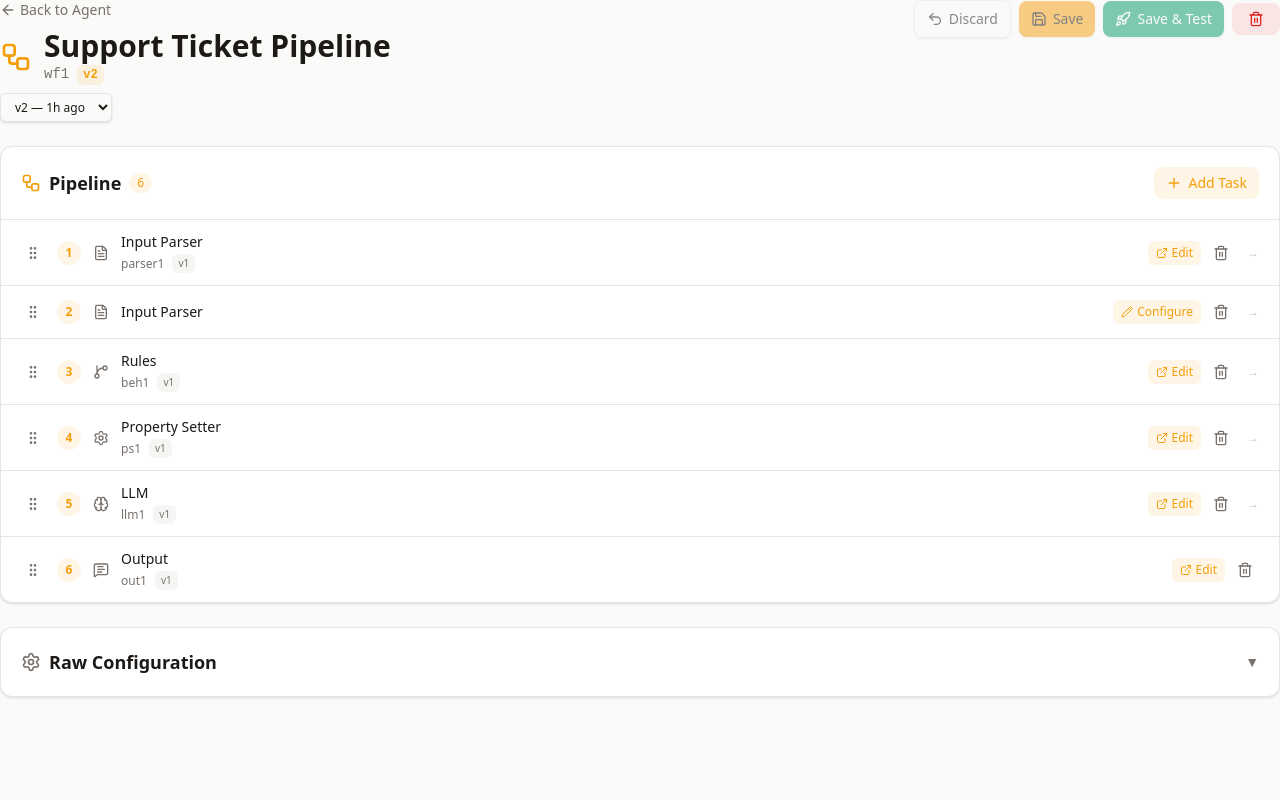
Test: Workflow Detail — Parser Inline Editing › applies parser changes and marks workflow dirty
Click the button with test id "configure-inline-1" at (1157,312), box left=1113, top=300, right=1201, bottom=324
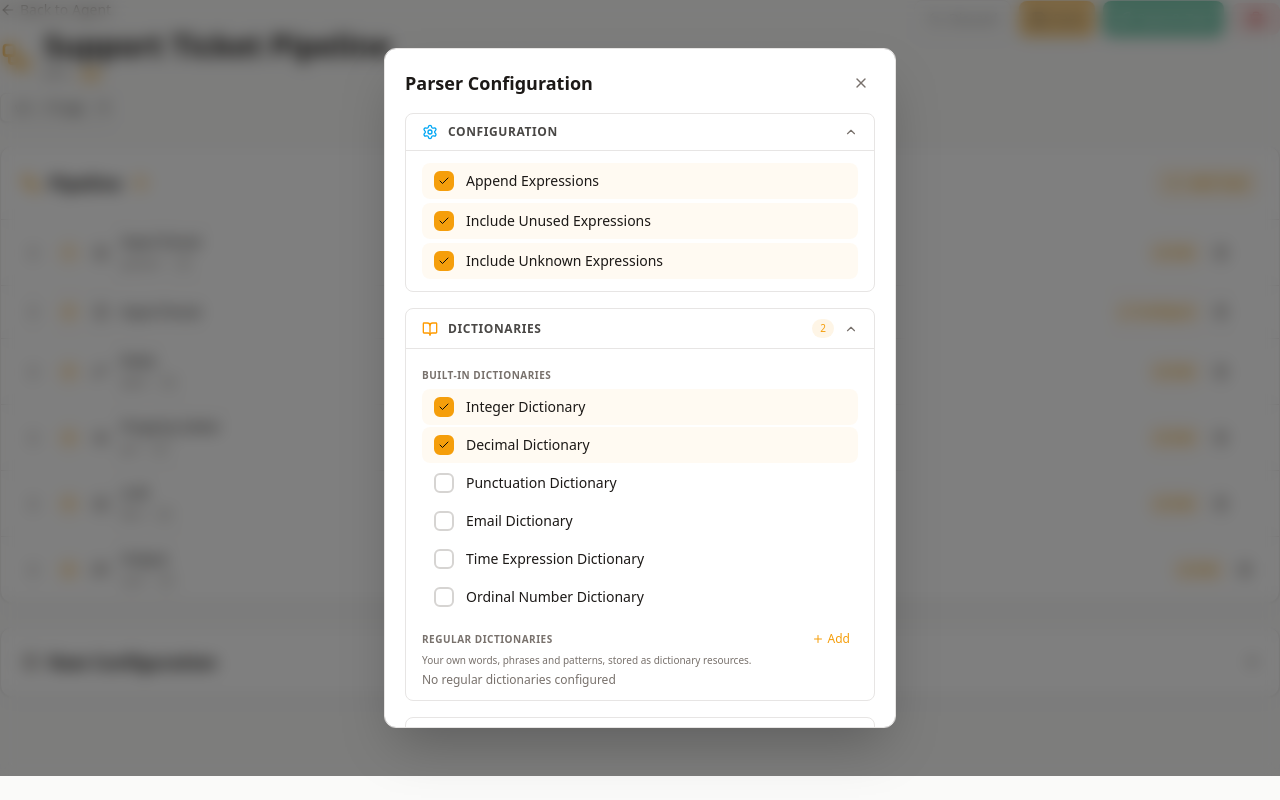
Check: the element with test id "parser-editor" is shown, box left=405, top=113, right=875, bottom=728
Make a change (toggle appendExpressions)
Click the checkbox labelled "Append Expressions" at (533,180), box left=422, top=163, right=858, bottom=199
(page scrolled)
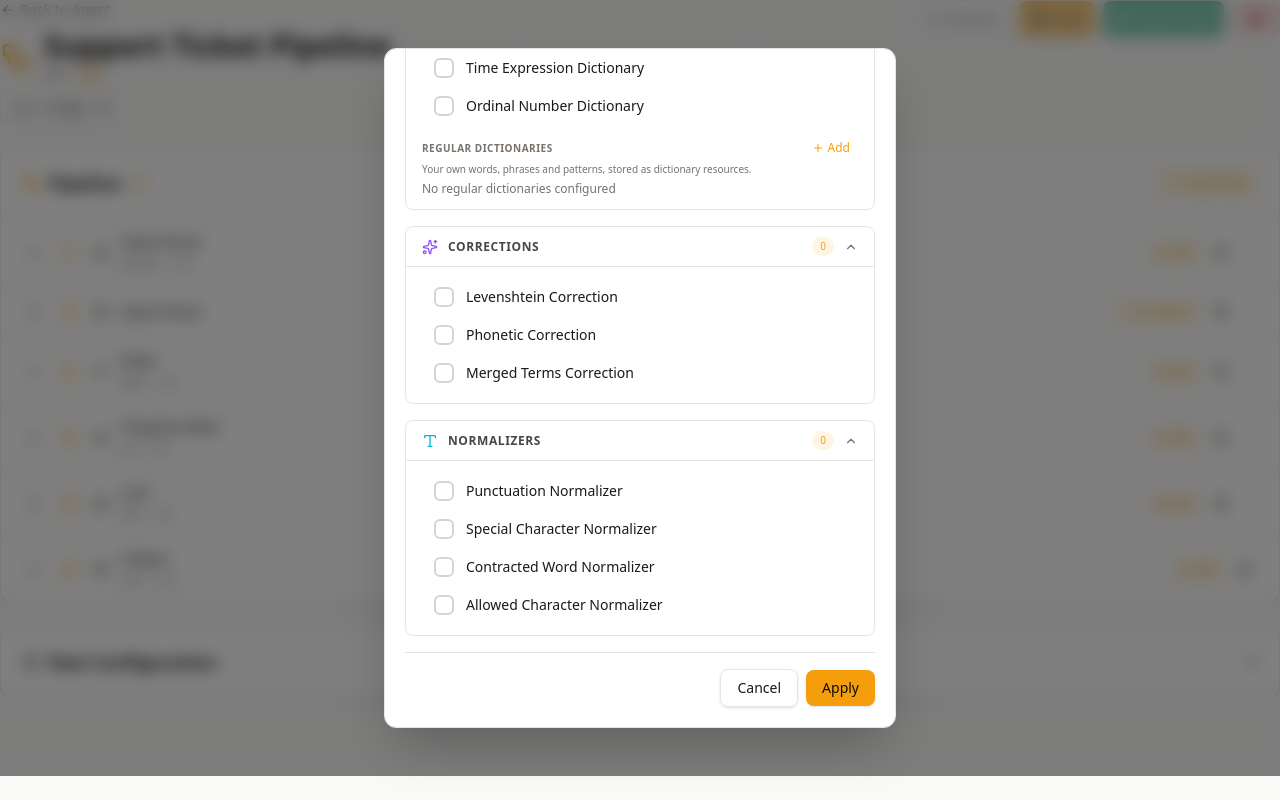
Click Apply
Click the button with test id "parser-dialog-save" at (841,688), box left=806, top=670, right=875, bottom=706
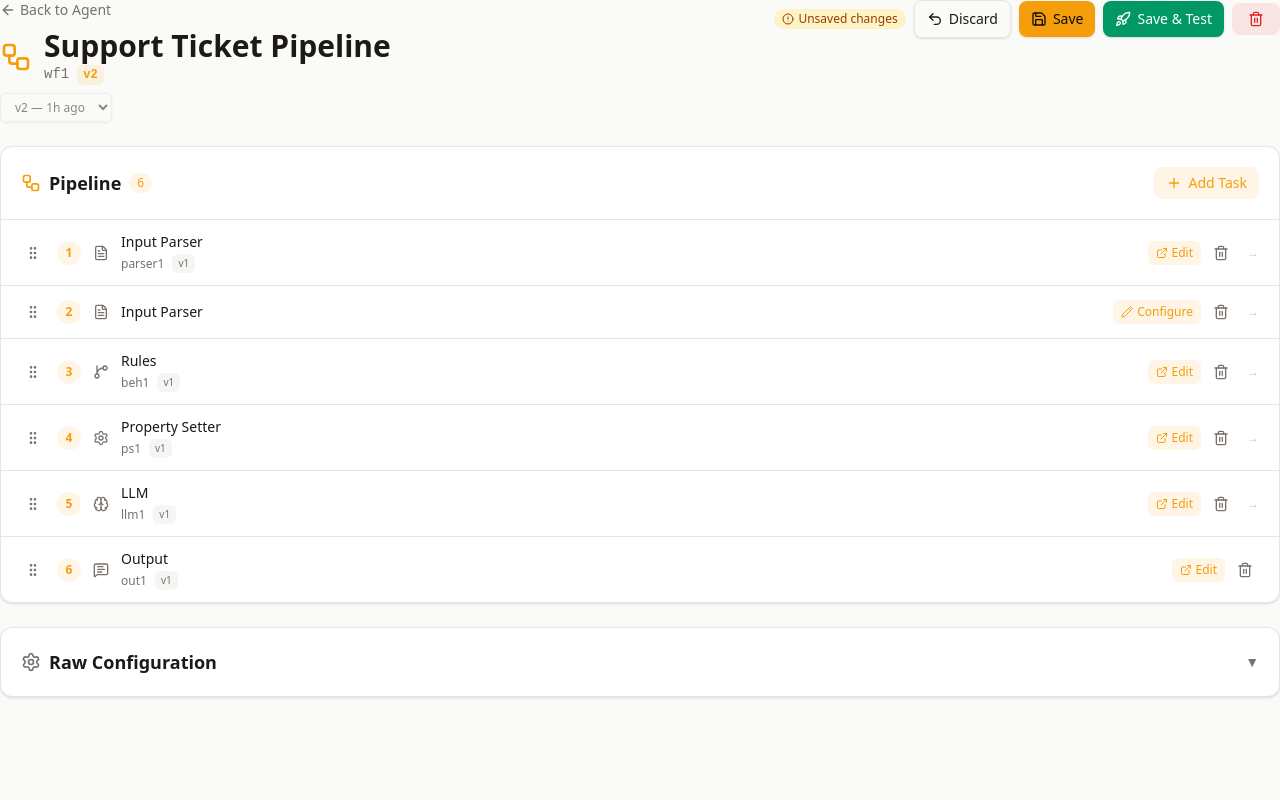
Check: the element with test id "parser-edit-dialog" is gone
Check: the element with test id "dirty-indicator" is shown, box left=774, top=9, right=906, bottom=29
